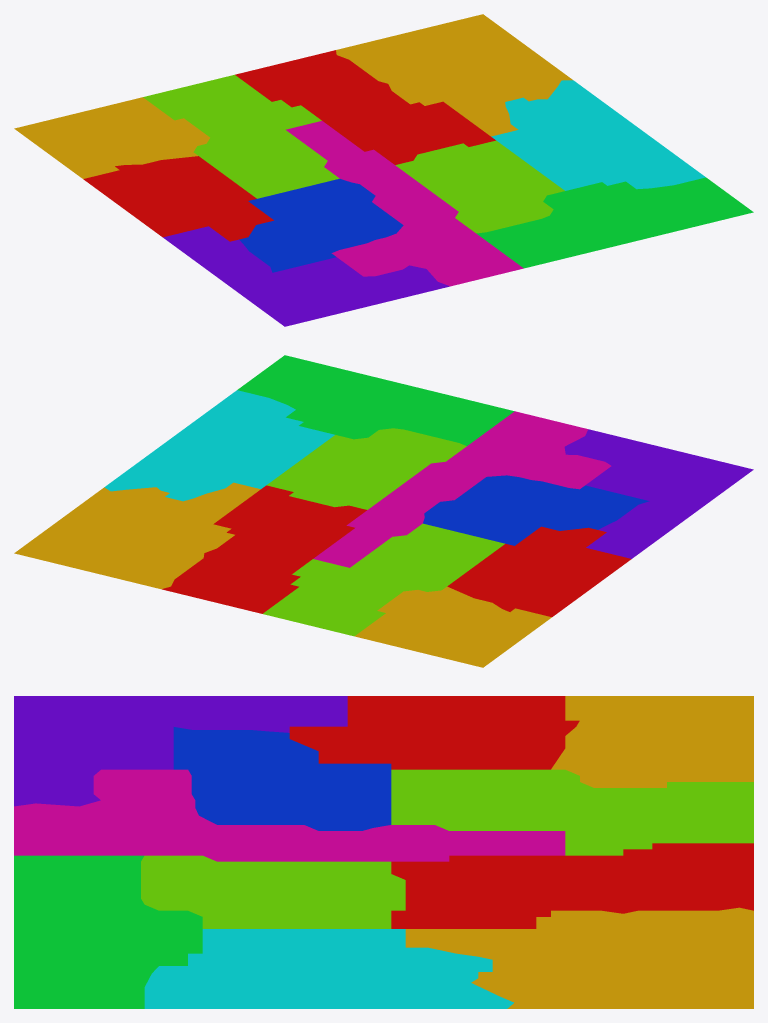
3 renders of one model, top to bottom at view 1: azimuth 30°, elevation 25°; view 2: azimuth 150°, elevation 25°; view 3: azimuth 270°, elevation 25°, orthographic. The views are drawn at different scales.
Bounding box in the file's own units: 2 × 0 × 2.
